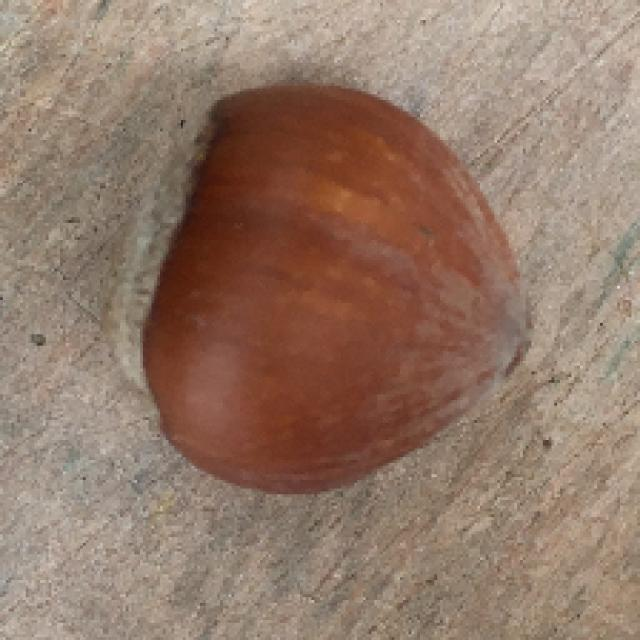QualityHazelnut: (114, 79, 538, 495)
